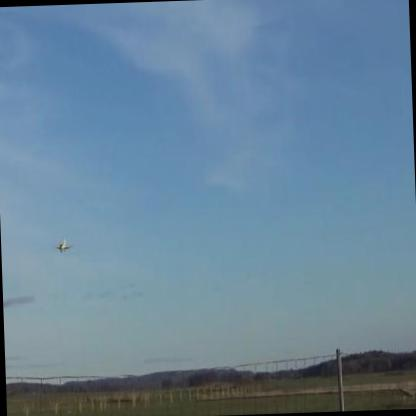plane: (52, 238, 74, 253)
